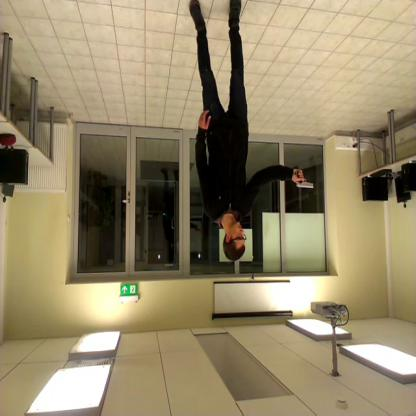Pistol: (290, 157, 318, 199)
